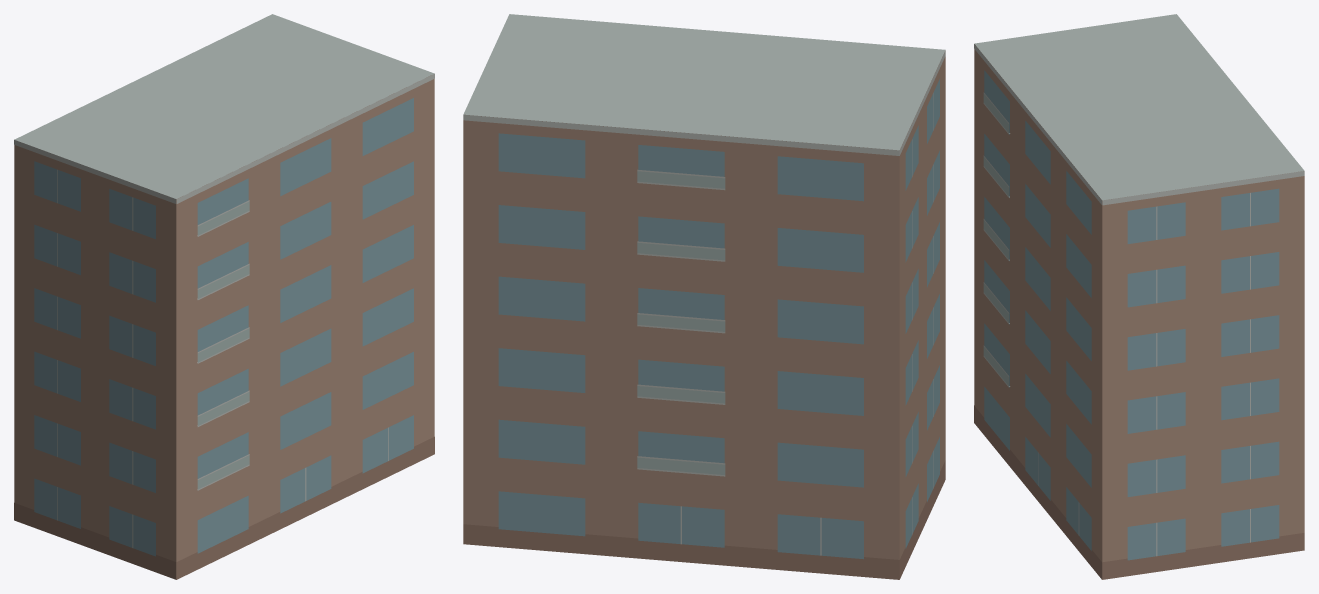
Rendered from survey-upis-32796331.glb.
3 views of the same model, side by side, from view 1: azimuth 30°, elevation 25°; view 2: azimuth 150°, elevation 25°; view 3: azimuth 270°, elevation 25° (orthographic). The views are drawn at different scales.
Parts seen in each view (by area): view 1: survey-upis-32796331.tmp; view 2: survey-upis-32796331.tmp; view 3: survey-upis-32796331.tmp.
Boxes of the visible parts, x1,y1,x2,y2 form: survey-upis-32796331.tmp: (14, 14, 434, 579); survey-upis-32796331.tmp: (463, 14, 945, 579); survey-upis-32796331.tmp: (974, 14, 1304, 579).
Size of the model in its own units: 19.29 by 18.3 by 14.45.
